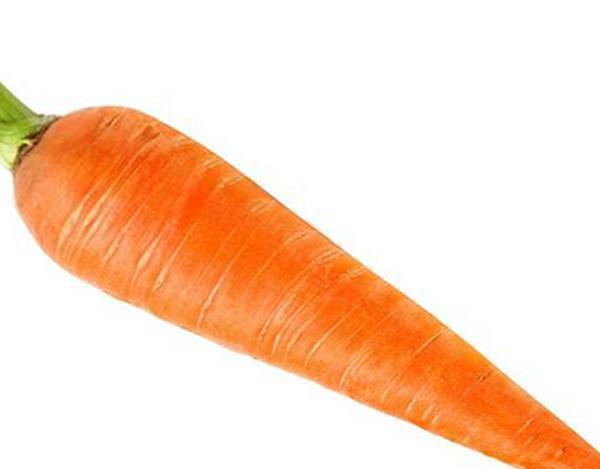carrot: (4, 80, 600, 469)
